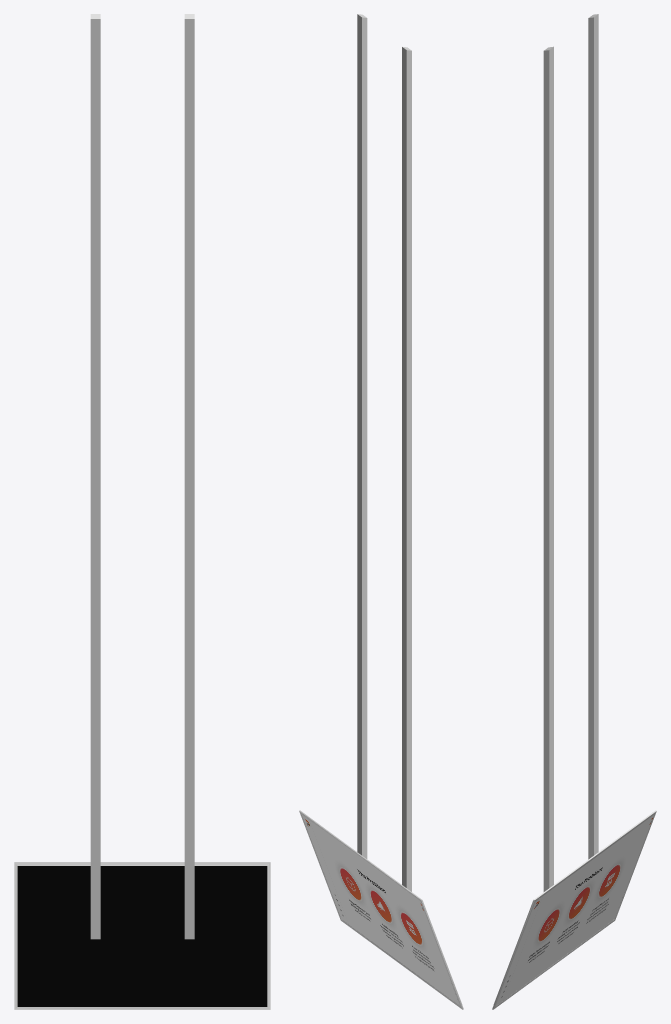
File: HangingStageMonitor 1.fbx
The picture shows the model from 3 angles, left to right: view 1: azimuth 30°, elevation 25°; view 2: azimuth 150°, elevation 25°; view 3: azimuth 270°, elevation 25°; orthographic projection. The views are drawn at different scales.
Visible parts, largest first — view 1: Stage Monitor.002; view 2: Stage Monitor.002; view 3: Stage Monitor.002.
Boxes of the visible parts, x1,y1,x2,y2 form: Stage Monitor.002: [14, 14, 270, 1009]; Stage Monitor.002: [299, 14, 463, 1009]; Stage Monitor.002: [492, 14, 656, 1009].
Bounding box in the file's own units: 88.82 × 389 × 61.99.
